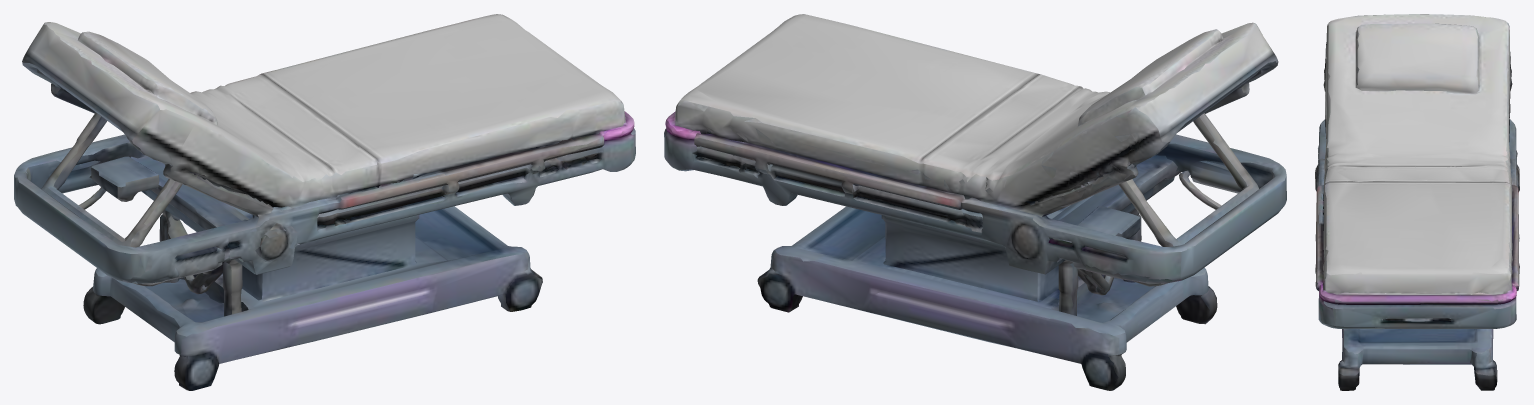
File: lit_examen.glb
The picture shows the model from 3 angles, left to right: view 1: azimuth 30°, elevation 25°; view 2: azimuth 150°, elevation 25°; view 3: azimuth 270°, elevation 25°; orthographic projection. The views are drawn at different scales.
Parts seen in each view (by area): view 1: textured_mesh.obj; view 2: textured_mesh.obj; view 3: textured_mesh.obj.
Boxes of the visible parts, x1,y1,x2,y2 form: textured_mesh.obj: [14, 14, 635, 390]; textured_mesh.obj: [664, 14, 1286, 390]; textured_mesh.obj: [1315, 14, 1519, 390].
Size of the model in its own units: 1.87 by 1.04 by 0.8321.
Materials: 1 (1 with a texture image).
